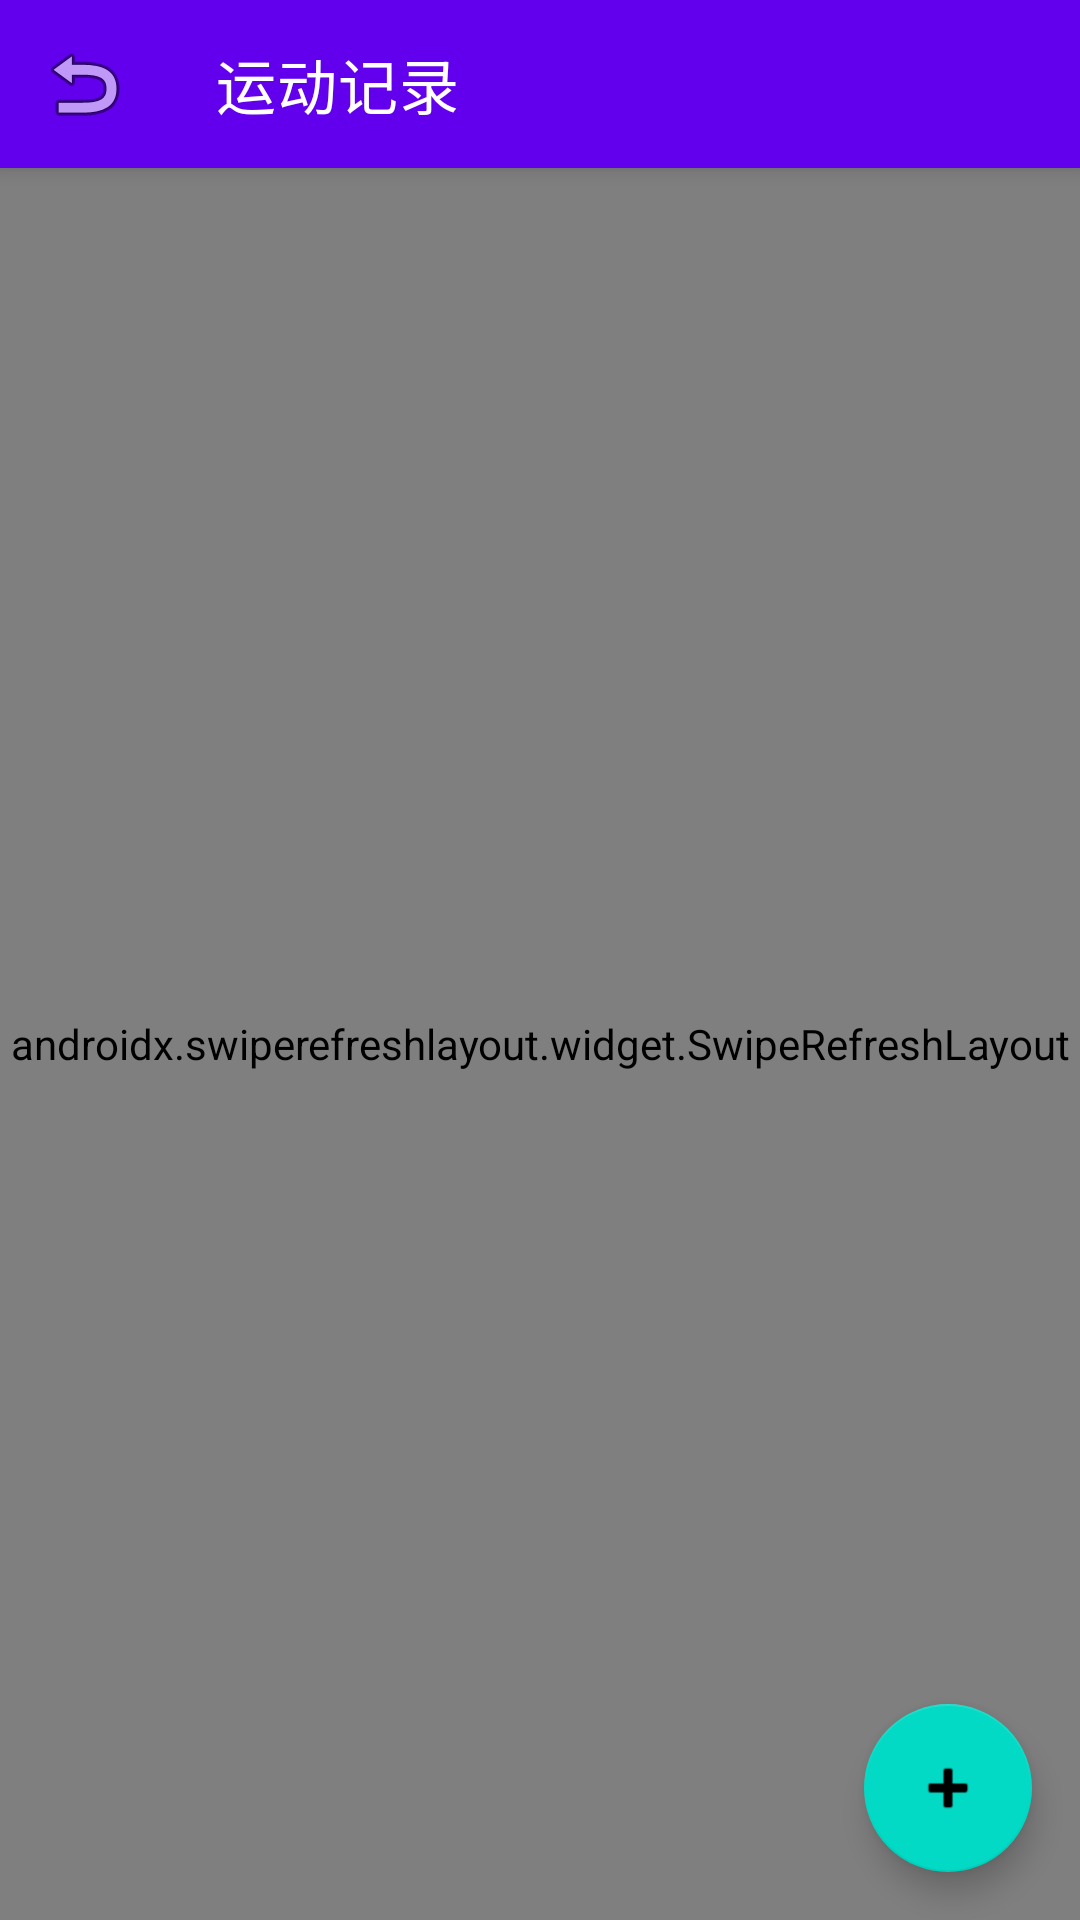

Icon bounding boxes for this 1080px x 1920px phone screenshot, format (x1, y1, x2, y2):
添加运动记录: (864, 1704, 1032, 1872)
